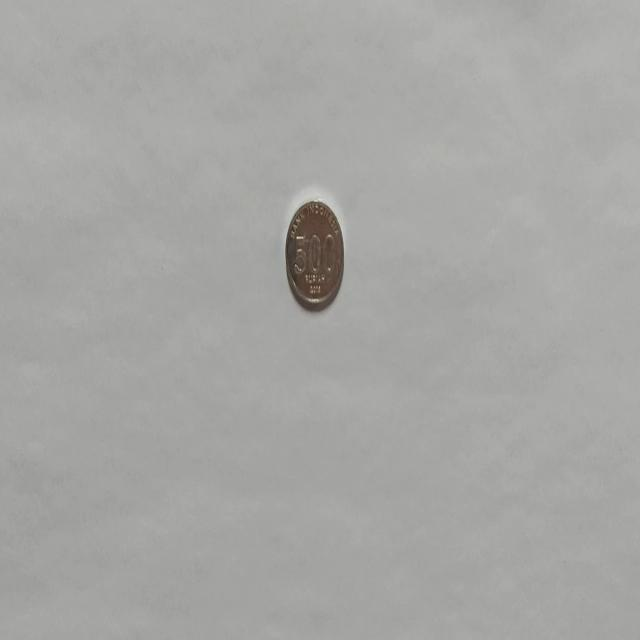lima ratus rupiah: (284, 198, 344, 312)
